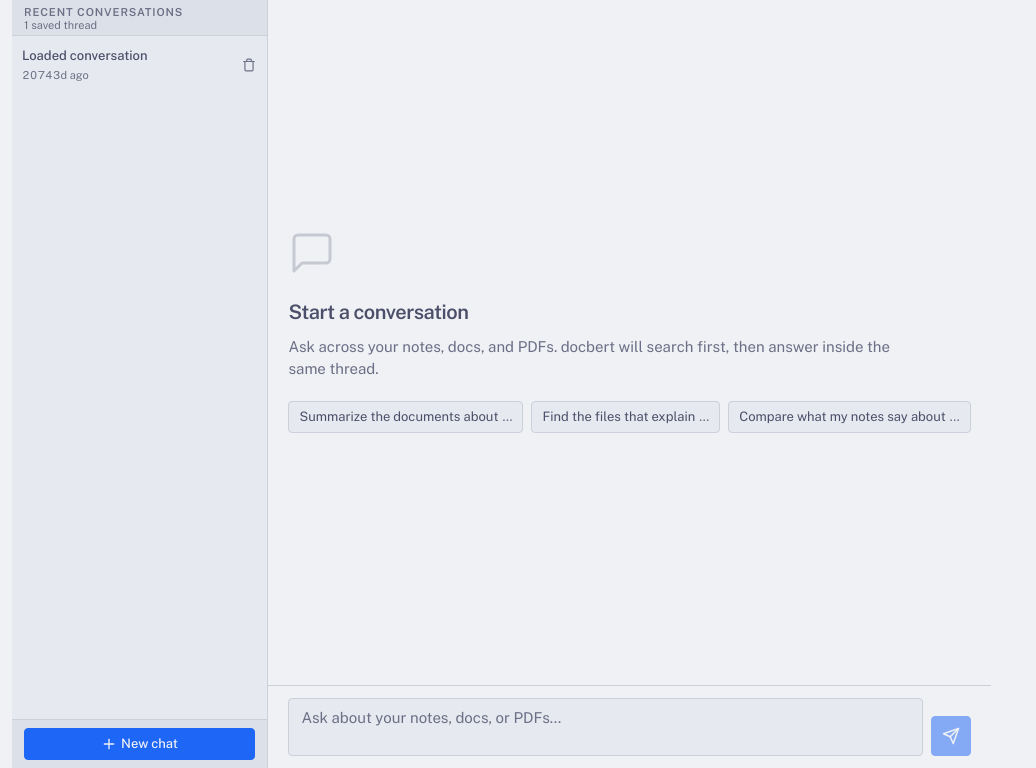
Test: Chat page › starter_prompt_chip_prefills_the_composer
This screenshot has width=1036, height=768.
Click the button "Summarize the documents about …": (406, 416) [288,400,524,432]
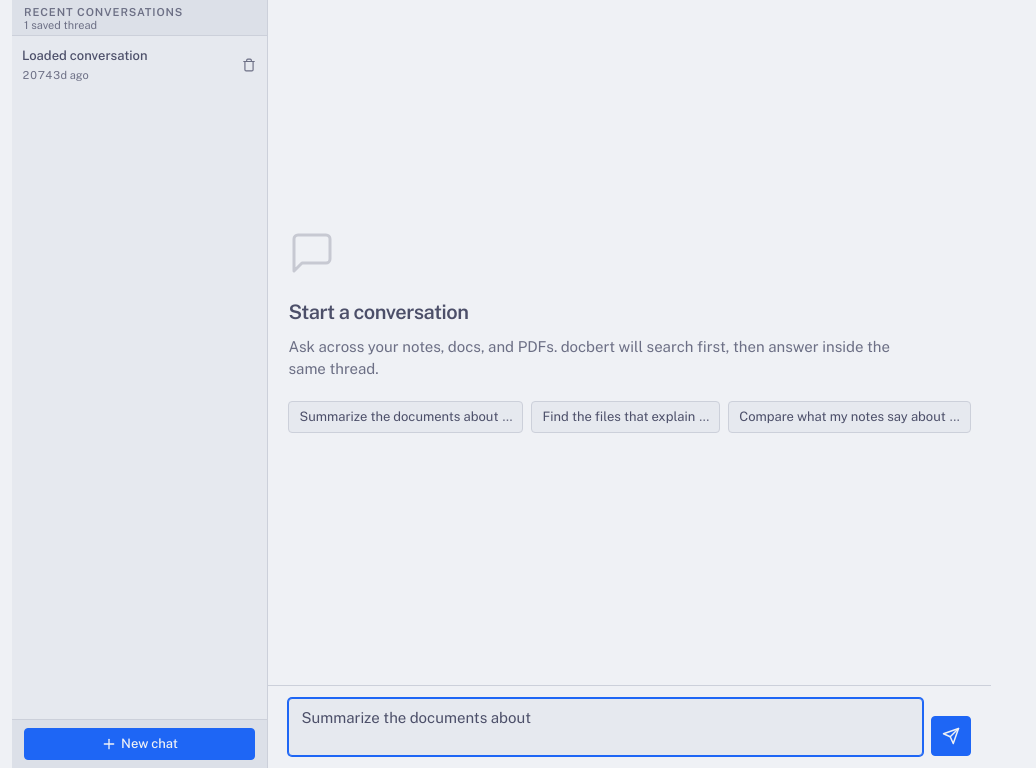
Now the text box holds "Summarize the documents about ", box [290,699,922,755]
